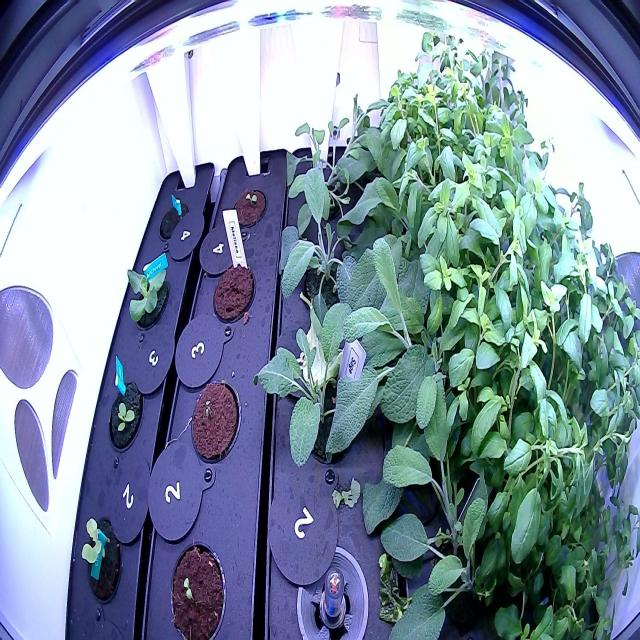germination: (163, 536, 228, 639), (187, 374, 243, 468), (104, 374, 146, 456), (229, 185, 268, 233)
pod: (211, 254, 257, 330), (157, 192, 191, 245)
young: (118, 253, 176, 340), (78, 508, 127, 608)
